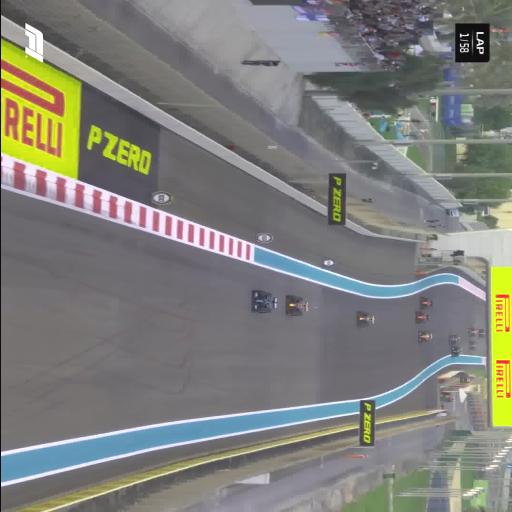f1_car: (251, 290, 276, 313), (286, 295, 307, 316), (356, 311, 375, 327), (415, 311, 429, 323), (420, 297, 432, 310), (419, 331, 431, 342), (451, 346, 463, 356), (449, 335, 459, 345), (468, 328, 478, 337), (470, 341, 479, 350), (478, 329, 485, 338)
